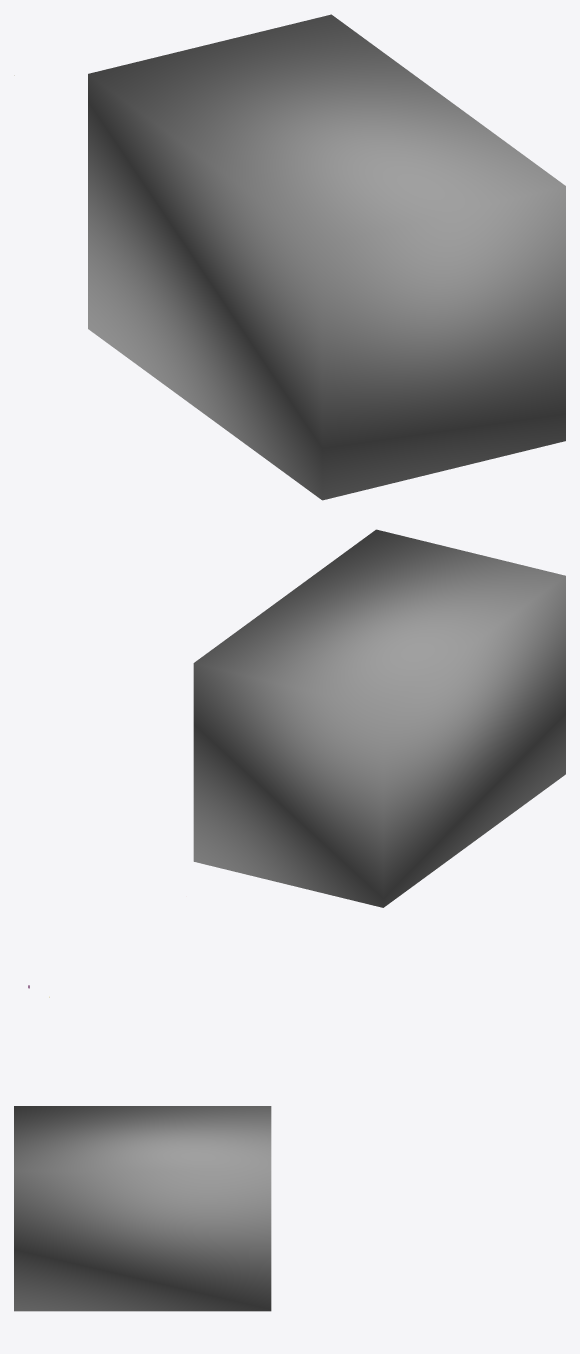
3 views of the same model, one above another, from view 1: azimuth 30°, elevation 25°; view 2: azimuth 150°, elevation 25°; view 3: azimuth 270°, elevation 25° (orthographic). The views are drawn at different scales.
Visible parts, largest first — view 1: Box1705; view 2: Box1705; view 3: Box1705.
Boxes of the visible parts, x1,y1,x2,y2 form: Box1705: [88, 14, 565, 500]; Box1705: [193, 529, 565, 907]; Box1705: [14, 1106, 271, 1311].
Bounding box in the file's own units: 381 × 487 × 1362.
5 materials, 1 textured.
